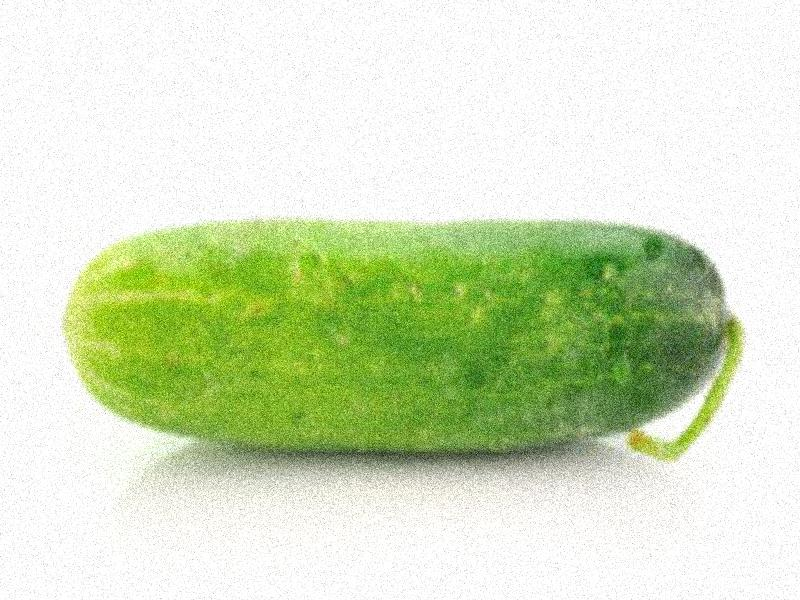Cucumber: (55, 219, 739, 460)
